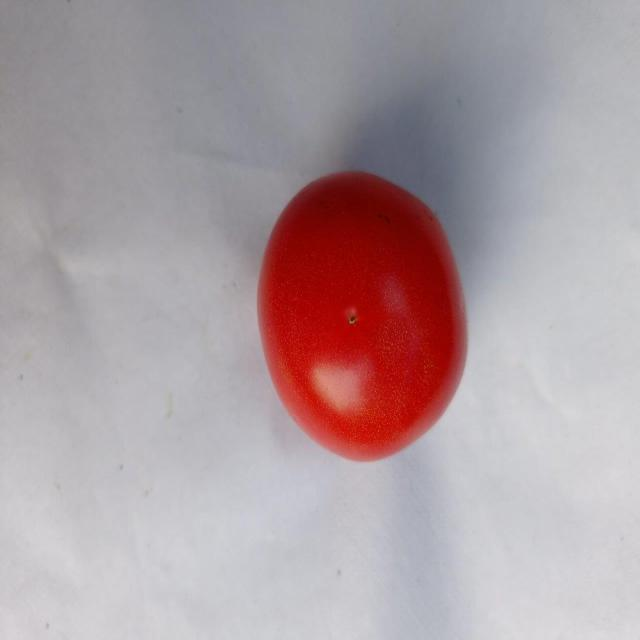Tomato: (254, 167, 468, 462)
